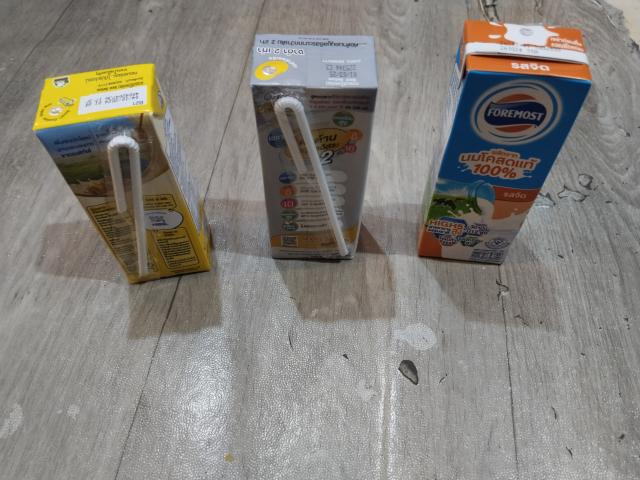drink_box: (32, 68, 214, 281), (423, 12, 576, 265), (247, 19, 376, 273)
